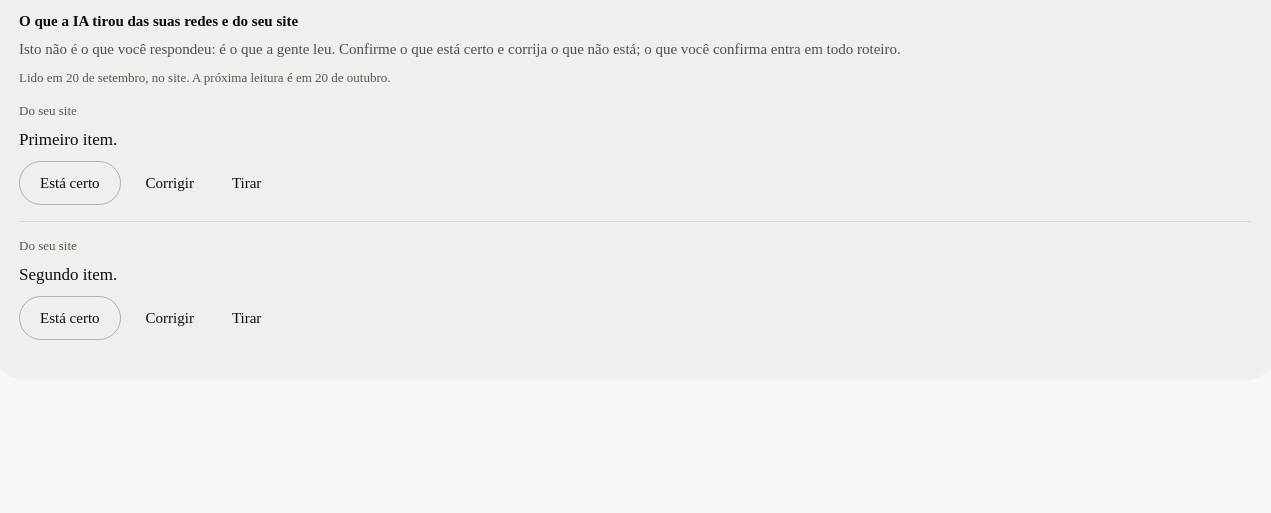
Test case: Corrigir › salvar a correção de um item não fecha o campo de correção que a pessoa abriu em outro enquanto o primeiro salvava
The width and height of the screenshot is (1271, 513).
Click the button with aria-label "Corrigir: Primeiro item." at (170, 183), box x1=133 y1=161 x2=207 y2=205
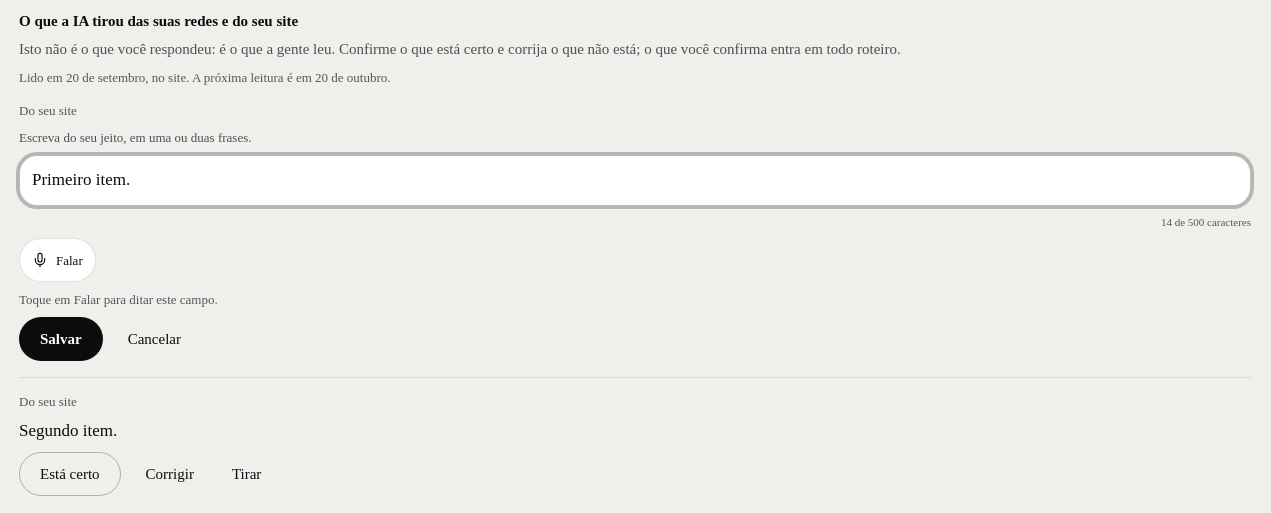
Replace the text in the text box named "Corrigir o que a IA entendeu" with "Primeiro corrigido." at (635, 181), box x1=19 y1=155 x2=1251 y2=206
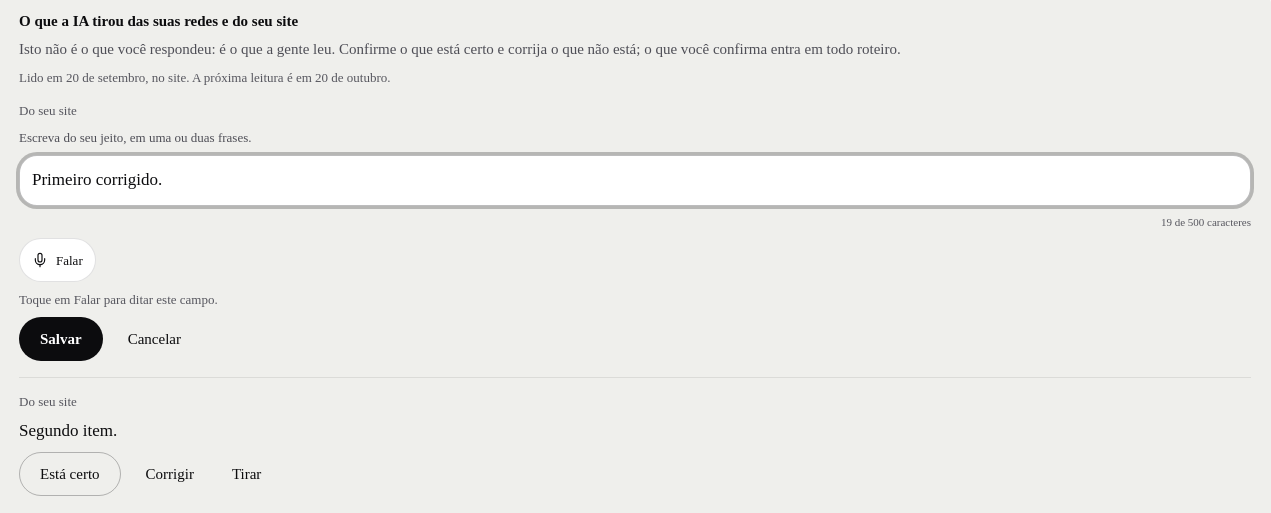
Click the button "Salvar" at (61, 339), box x1=19 y1=317 x2=103 y2=361
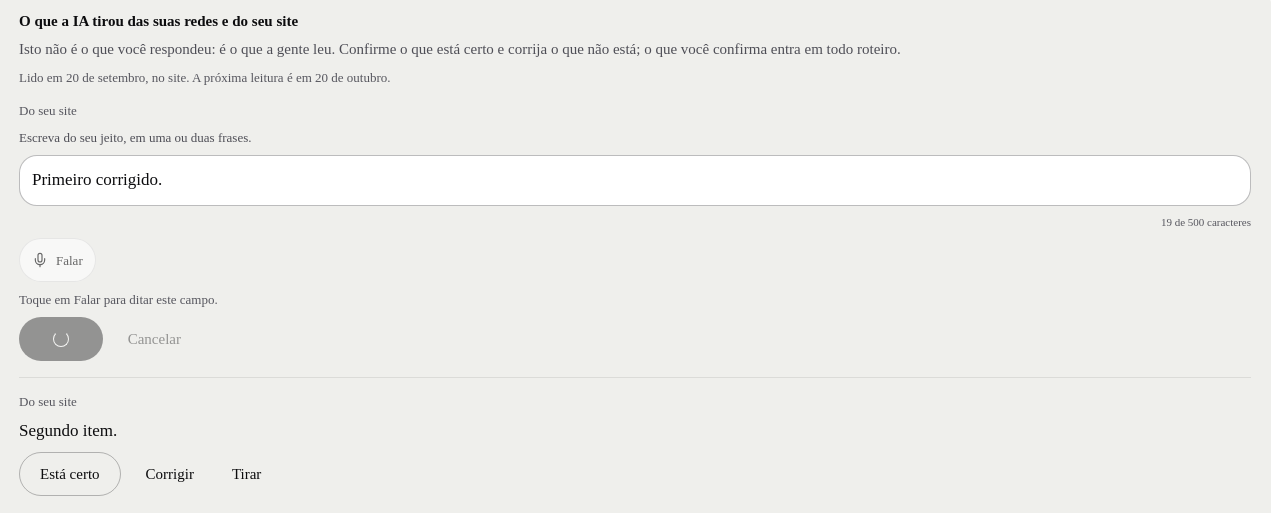
# Enquanto o primeiro salva, abre a correção do segundo e começa a escrever.
Click the button with aria-label "Corrigir: Segundo item." at (170, 474), box x1=133 y1=452 x2=207 y2=496
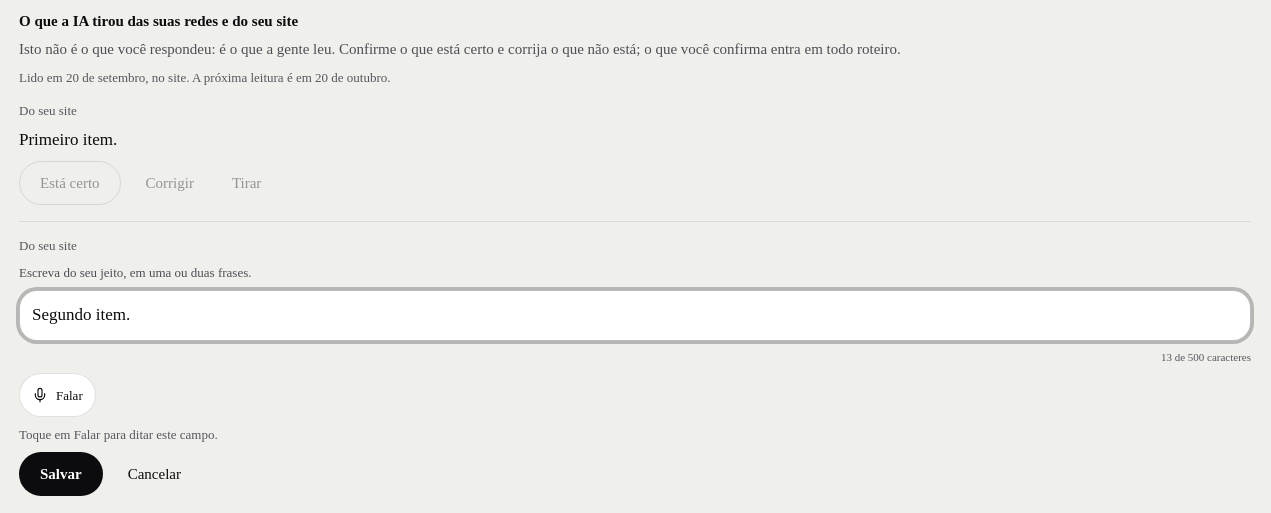
Replace the text in the text box named "Corrigir o que a IA entendeu" with "Segundo, ainda escrevendo" at (635, 316), box x1=19 y1=290 x2=1251 y2=341
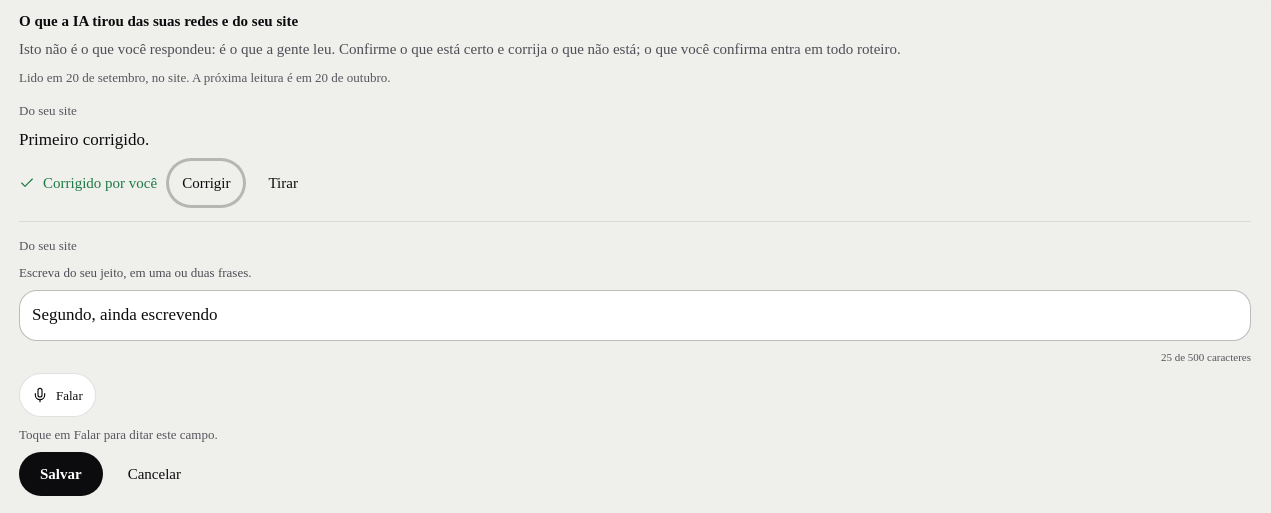
Result: the text "Primeiro corrigido." is shown at x1=19 y1=130 x2=149 y2=149
